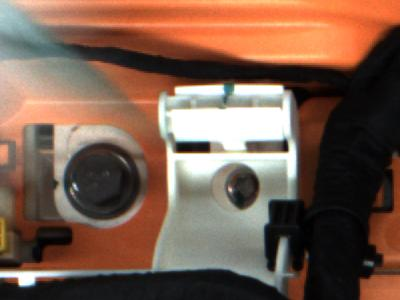nut_b: (51, 133, 155, 228)
